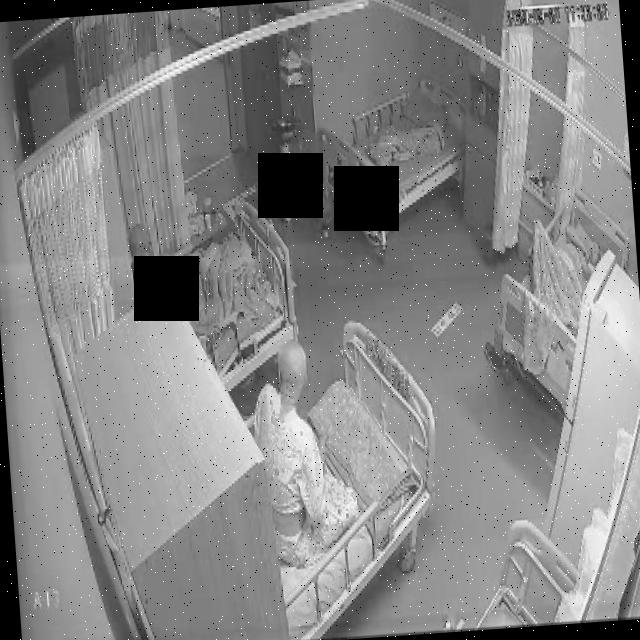bed: (233, 319, 449, 640), (484, 188, 638, 412), (154, 202, 298, 394), (318, 72, 472, 240)
lie: (528, 210, 604, 284)
patient: (242, 336, 350, 572), (127, 216, 218, 351), (560, 217, 604, 283)
sit: (241, 334, 347, 570), (128, 211, 275, 352)
